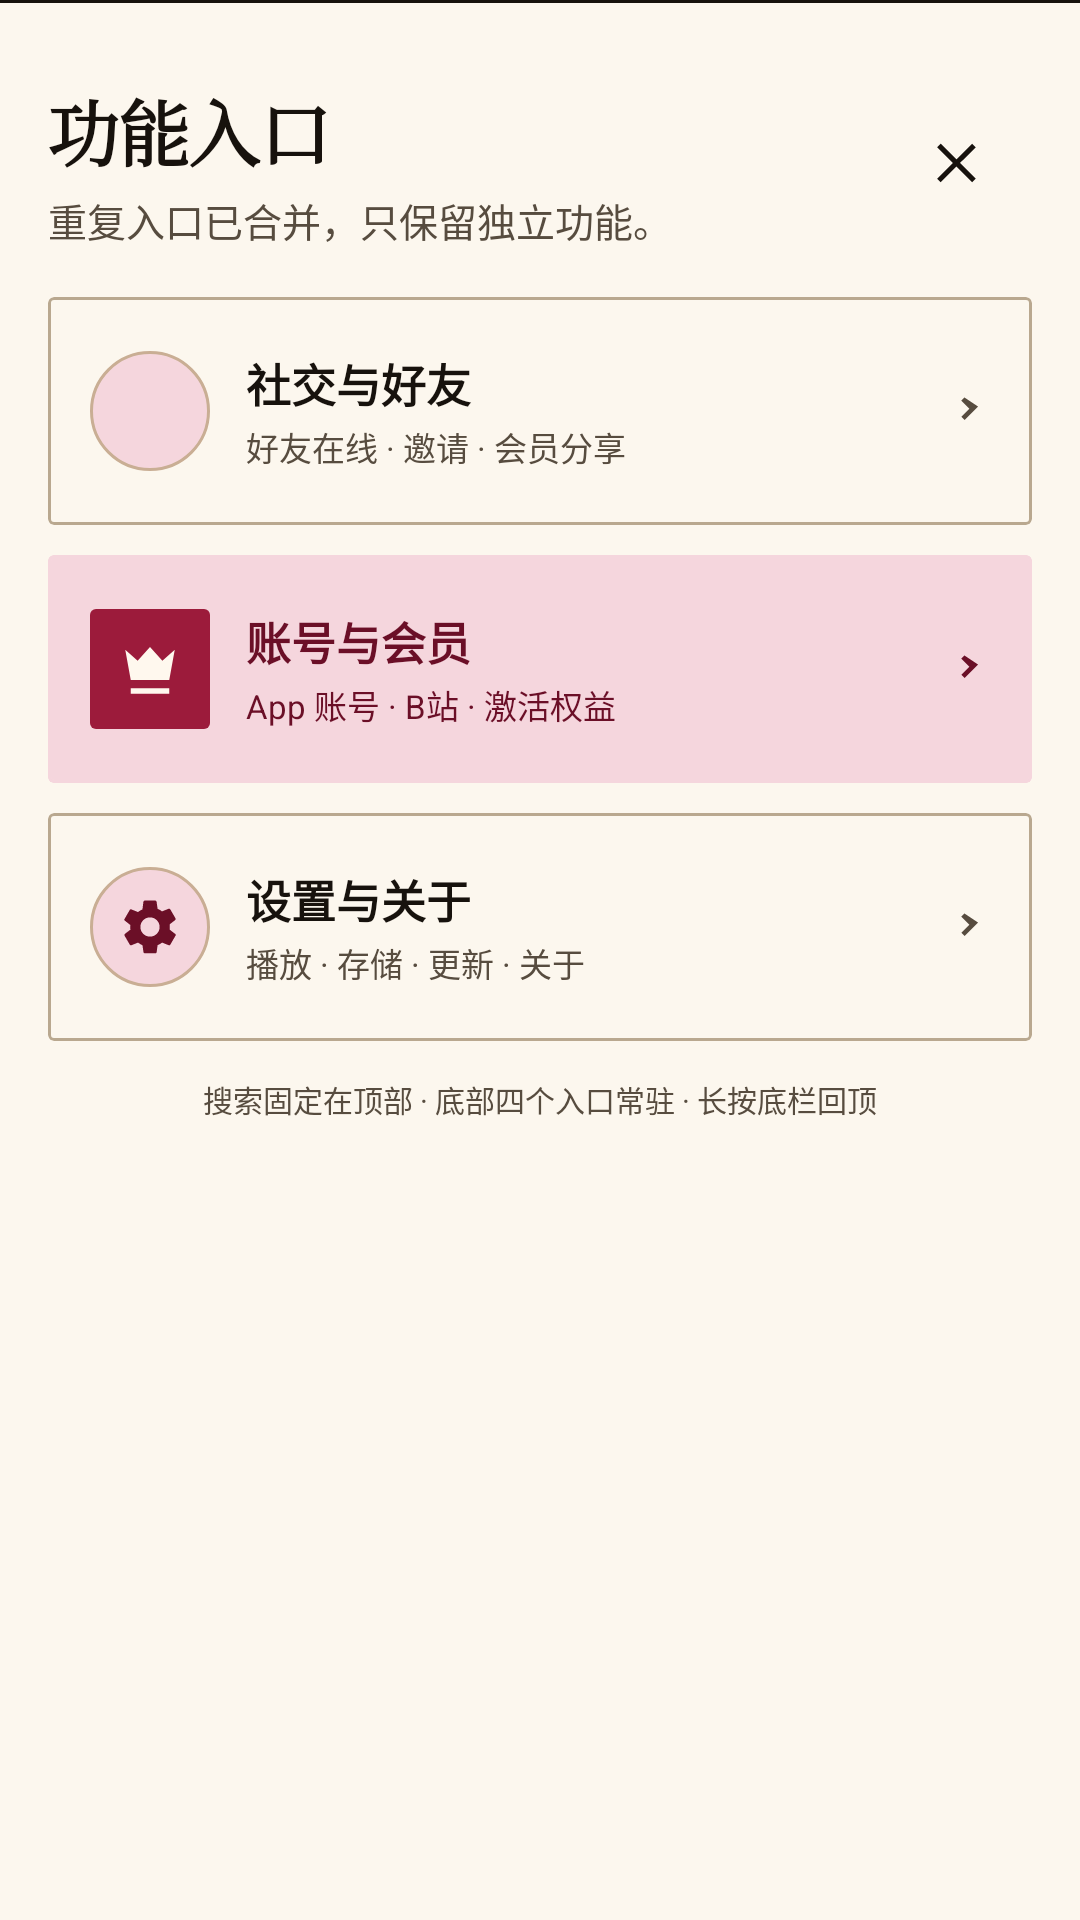

Point at icon controls on the screen. Image size 1080px×1920px, points as [x,y].
crown: [150,670]
settings: [150,927]
关闭: [956,162]
